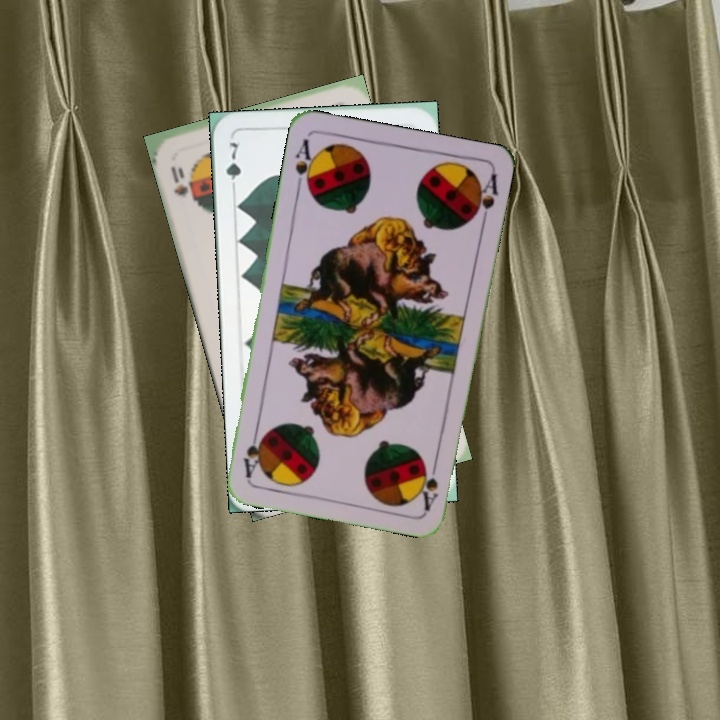G7: (222, 136, 244, 195)
SA: (291, 135, 319, 195), (417, 454, 441, 513)
SO: (166, 162, 197, 204)
